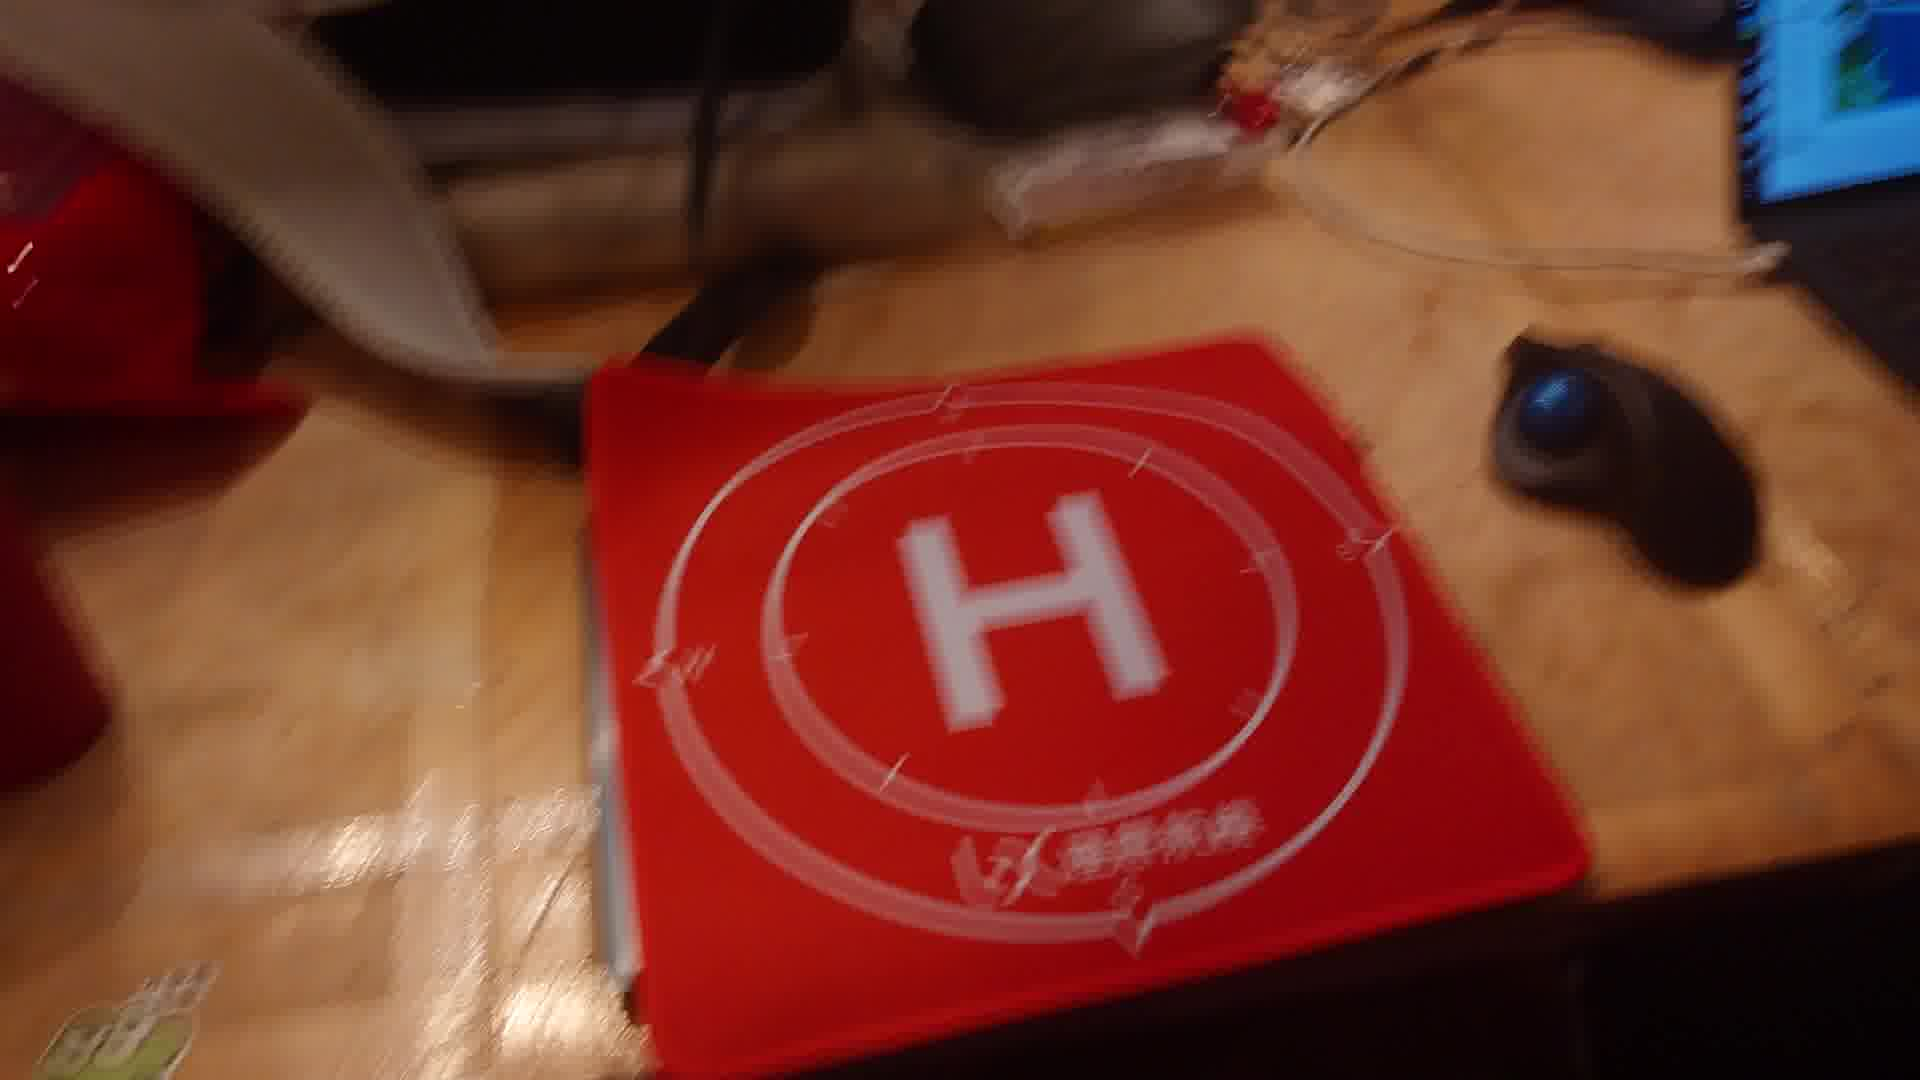H: (899, 489, 1166, 735)
